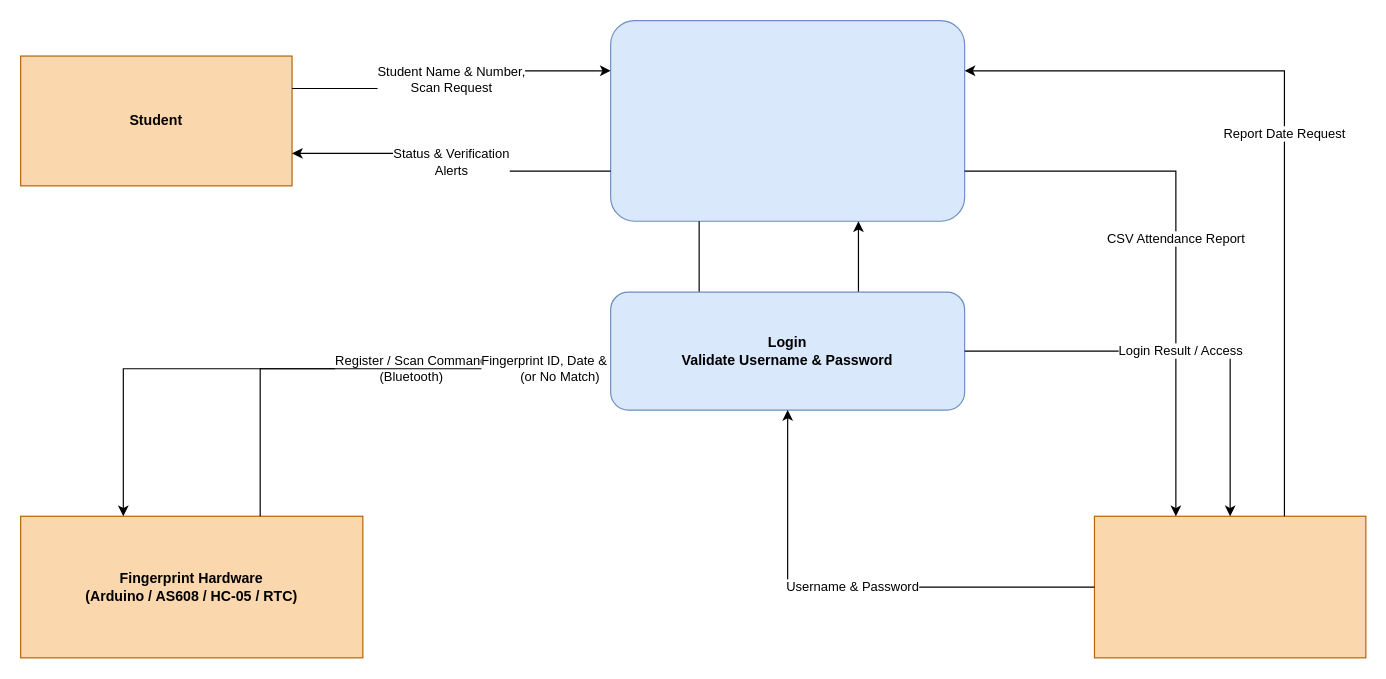
Some shapes in this 1386 by 679 pixel diagram are drawn without their labels. Here are the shapes that lost their labels. From the top down, the box of each, then its label:
(609, 19, 965, 221): 0 Student Enrollment & Attendance System
(1093, 515, 1366, 658): Administrator / Teacher
